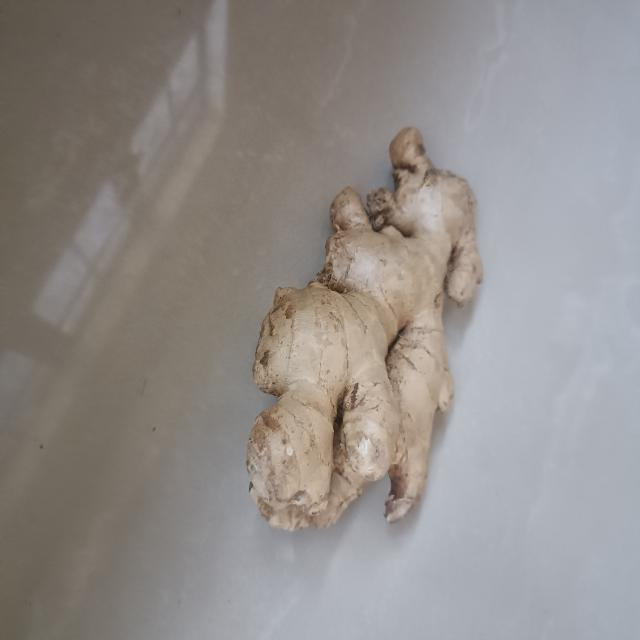ginger: (245, 86, 485, 540)
